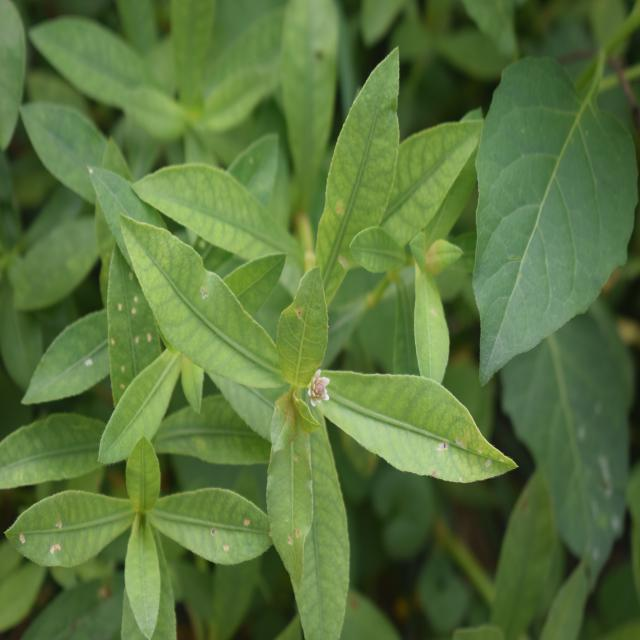Alligatorweed: (141, 110, 467, 600), (18, 312, 260, 617)
